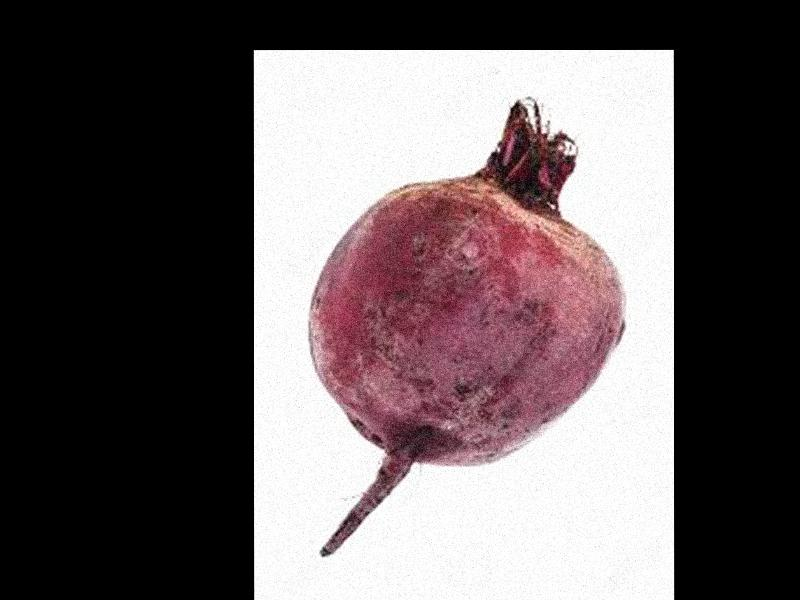Beet: (309, 100, 621, 551)
